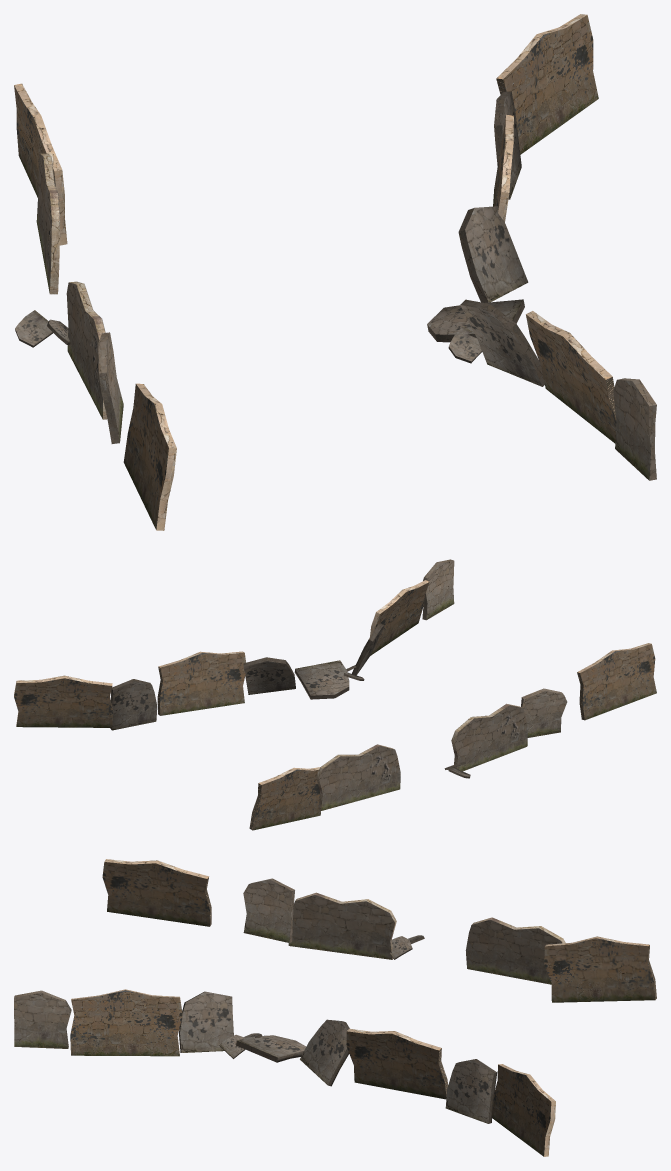
File: muros.fbx
3 renders of one model, top to bottom at view 1: azimuth 30°, elevation 25°; view 2: azimuth 150°, elevation 25°; view 3: azimuth 270°, elevation 25°, orthographic. The views are drawn at different scales.
Visible parts, largest first — view 1: Box001.001; view 2: Box001.001; view 3: Box001.001.
Part boxes in pixels (x1=…): Box001.001: x1=14, y1=14, x2=656, y2=530; Box001.001: x1=14, y1=559, x2=656, y2=830; Box001.001: x1=14, y1=859, x2=656, y2=1156.
Bounding box in the file's own units: 2157 × 302 × 2363.
